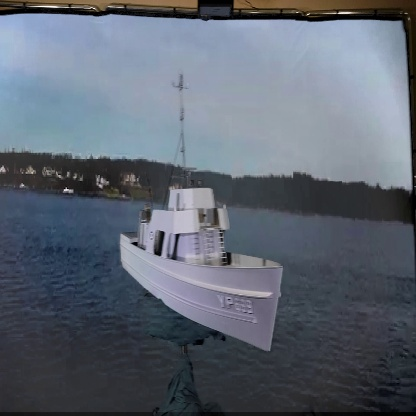YP689: (122, 65, 282, 354)
